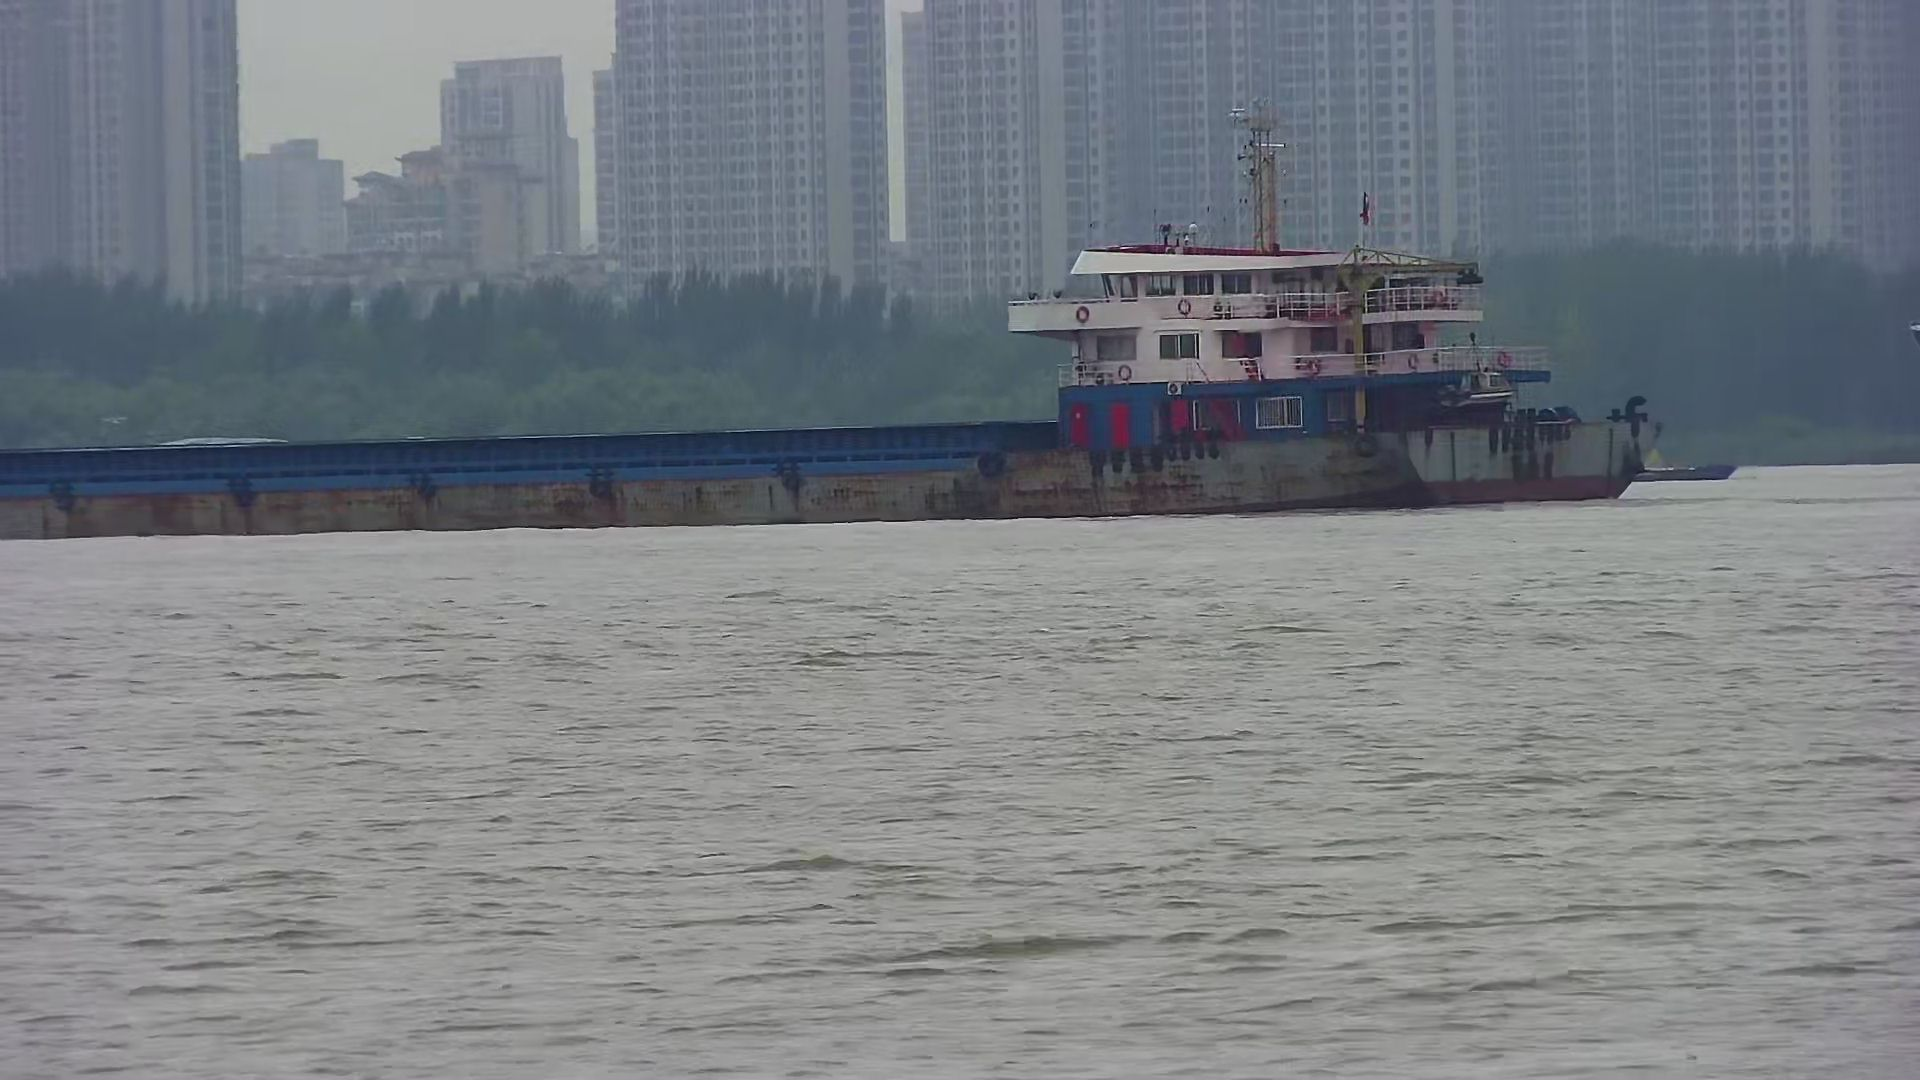boat: (1635, 463, 1741, 483)
ship: (1, 115, 1664, 542)
